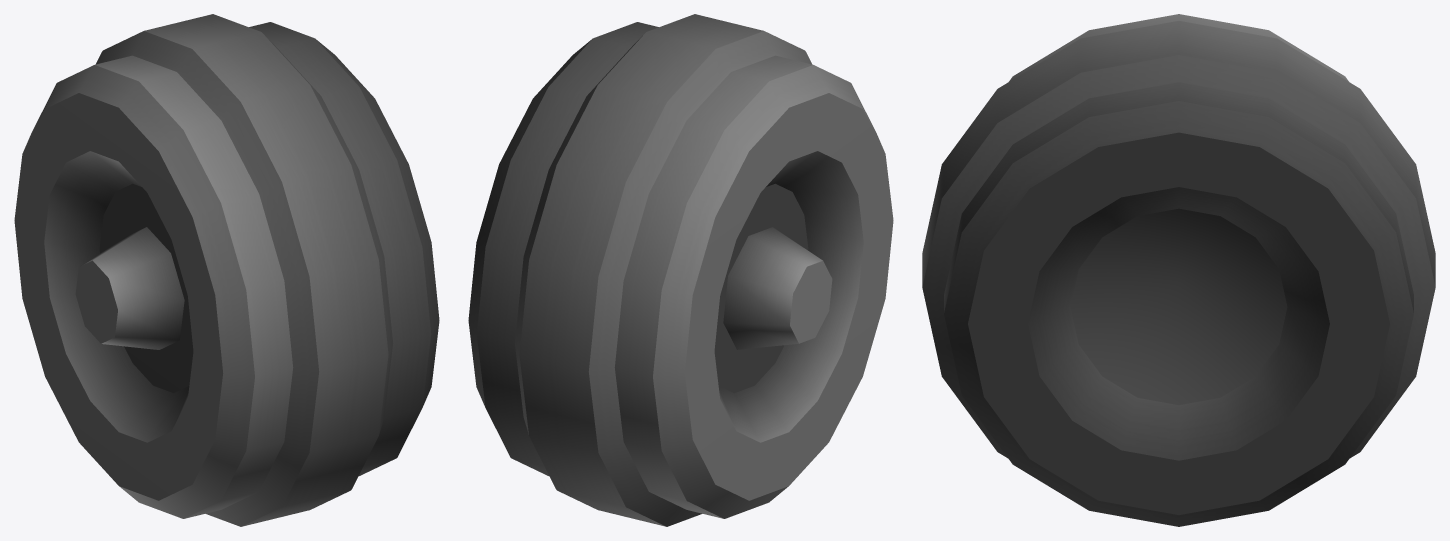
Rendered from Wheel_002_R.fbx.
3 renders of one model, left to right at view 1: azimuth 30°, elevation 25°; view 2: azimuth 150°, elevation 25°; view 3: azimuth 270°, elevation 25°, orthographic.
Parts seen in each view (by area): view 1: Wheel_002_R; view 2: Wheel_002_R; view 3: Wheel_002_R.
Boxes of the visible parts, x1,y1,x2,y2 form: Wheel_002_R: (14,14,439,526); Wheel_002_R: (468,14,893,526); Wheel_002_R: (922,14,1435,526).
Size of the model in its own units: 75.04 by 138 by 138.
